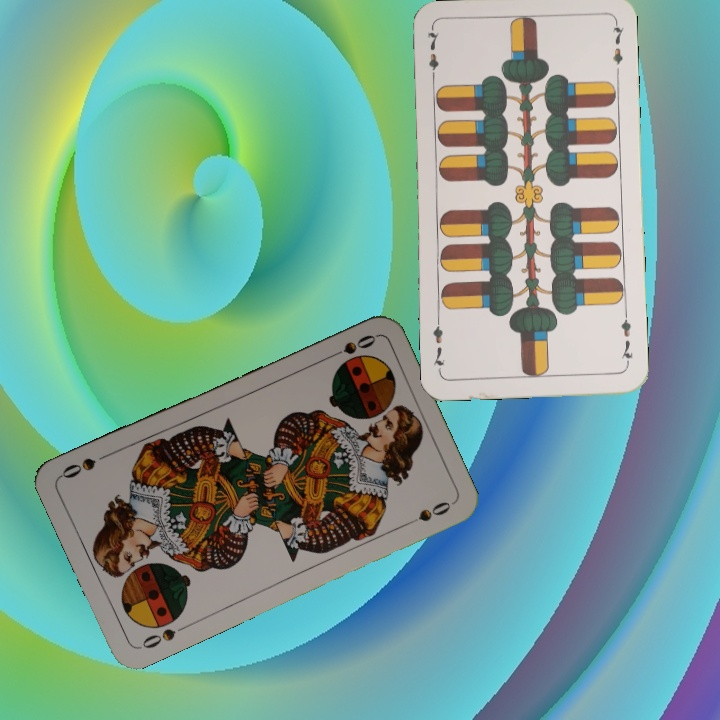E7: (617, 309, 636, 368), (423, 26, 441, 85)
SO: (322, 330, 379, 362), (135, 620, 191, 651)
